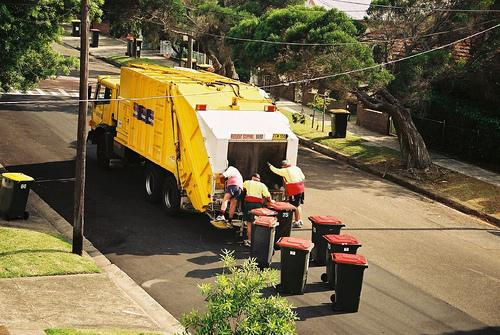truck: (86, 63, 299, 219)
